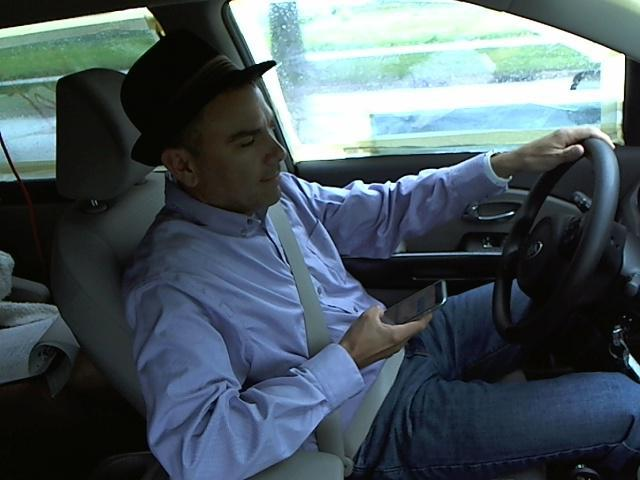PhoneUse: (368, 274, 455, 336)
